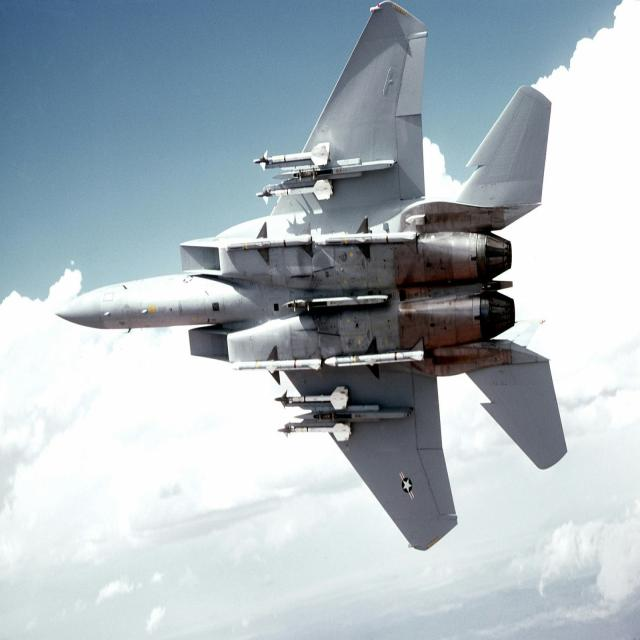F15: (27, 0, 594, 578)
